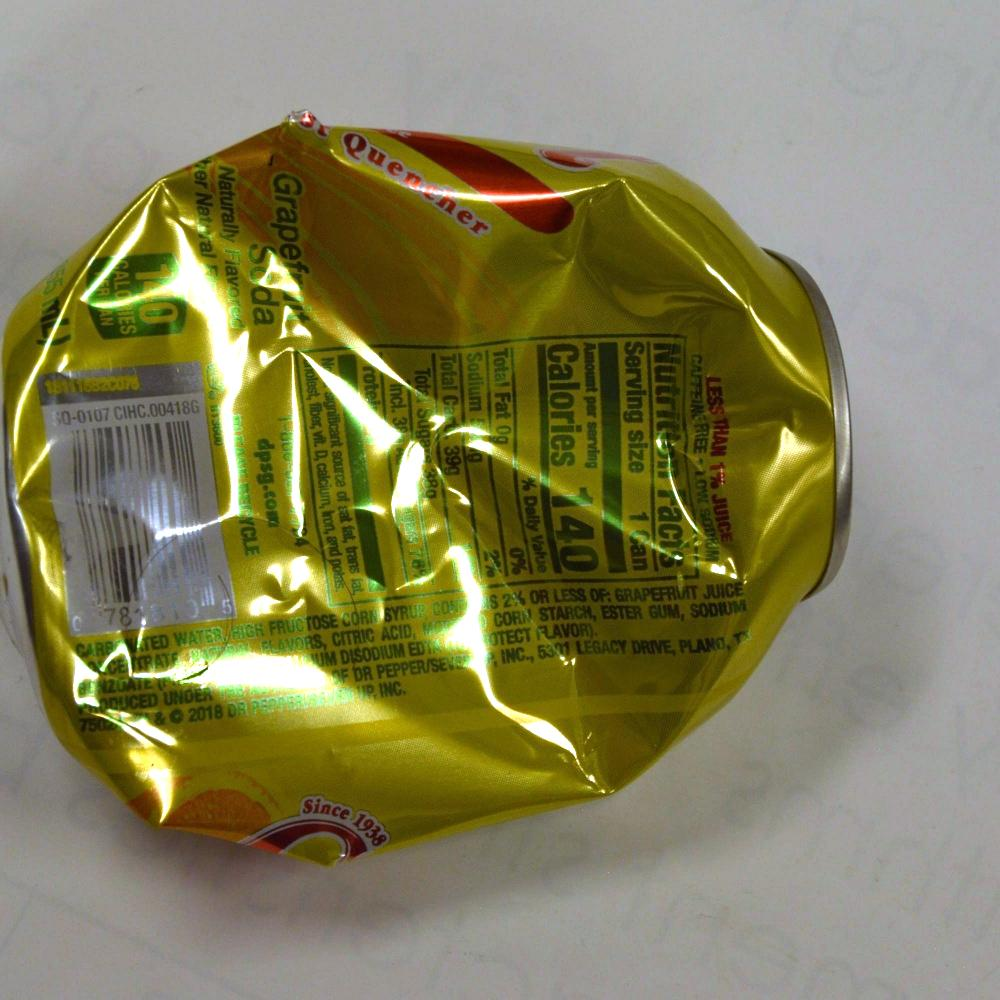Metal: (33, 97, 871, 862)
